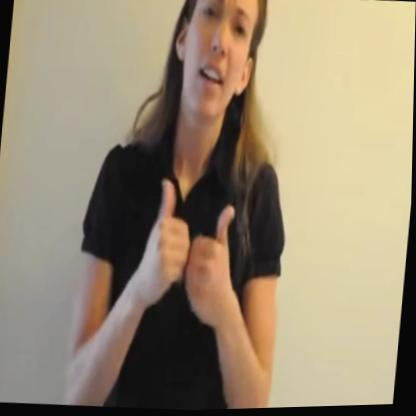HowAreYou: (104, 161, 271, 360)
